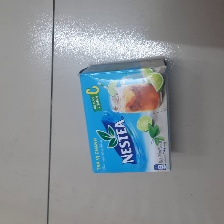Nestea: (77, 58, 174, 175)
